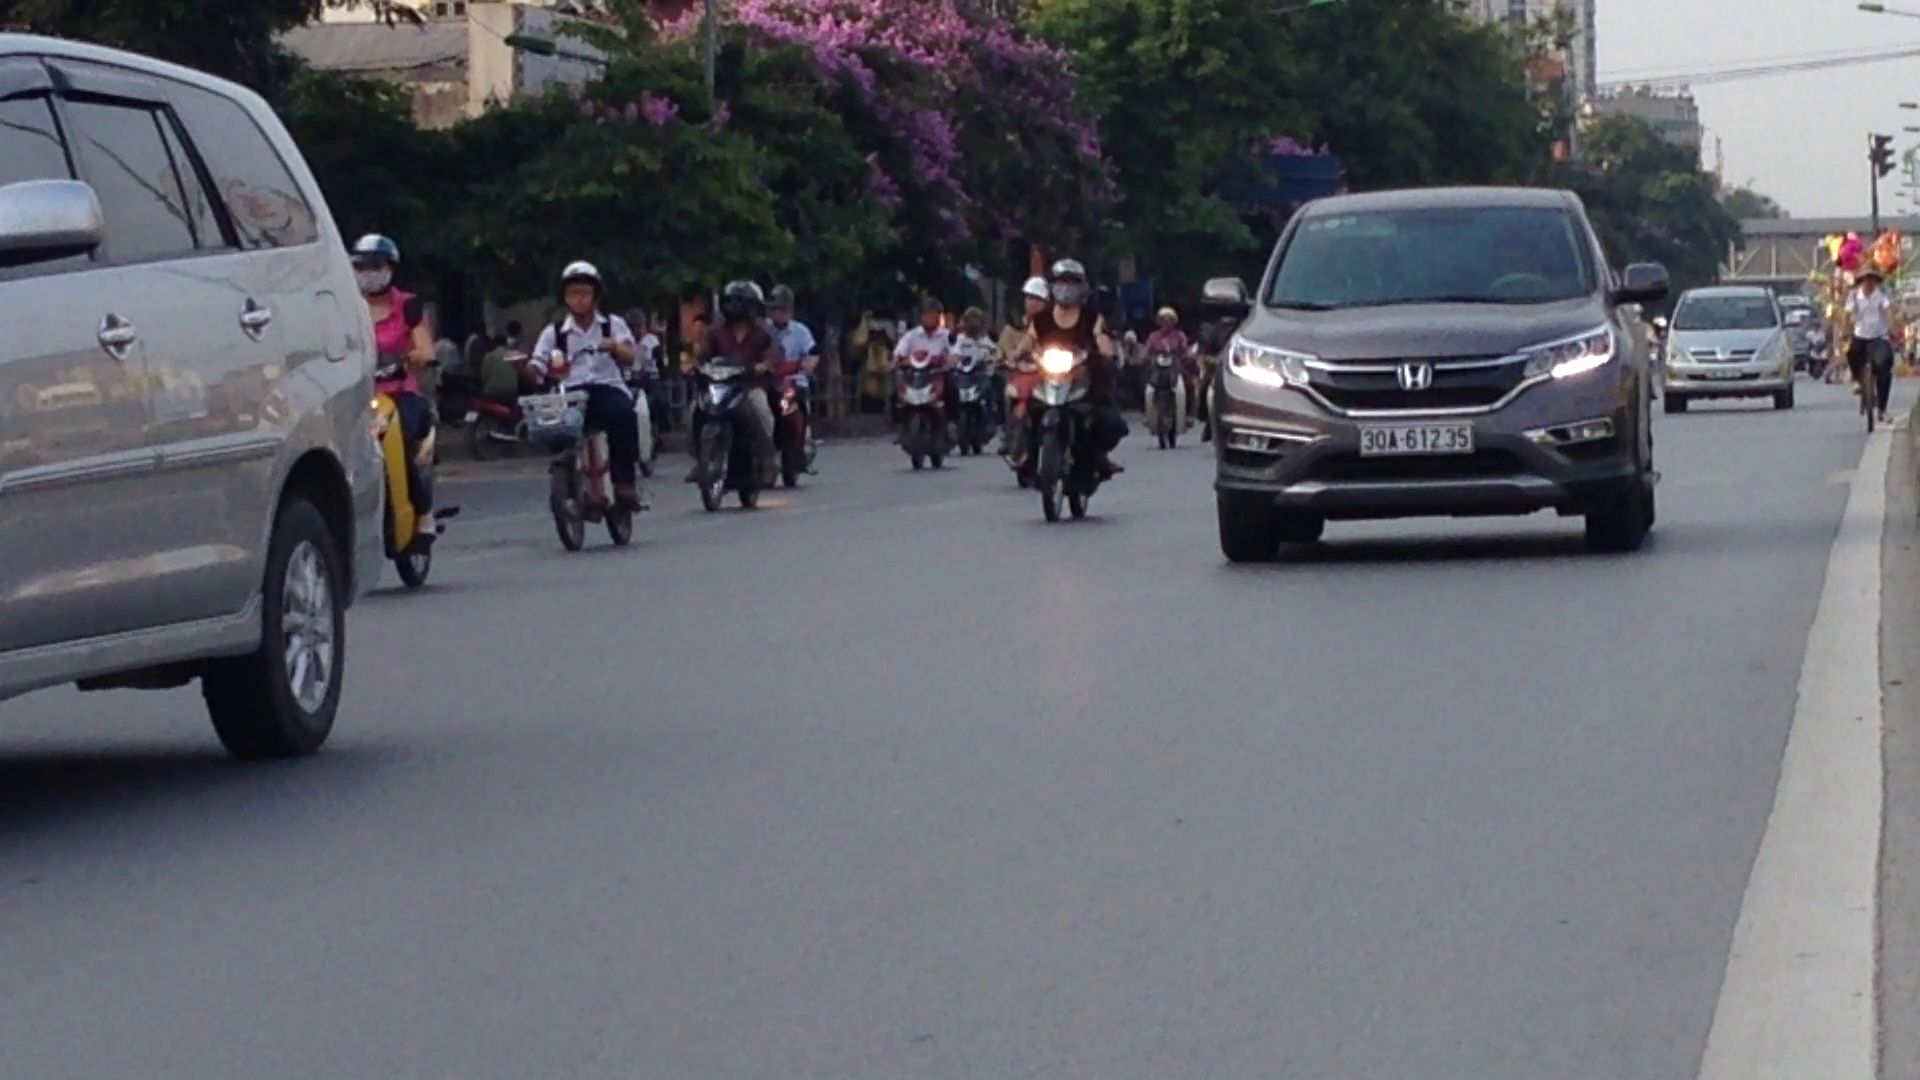person: (1354, 420, 1477, 456)
